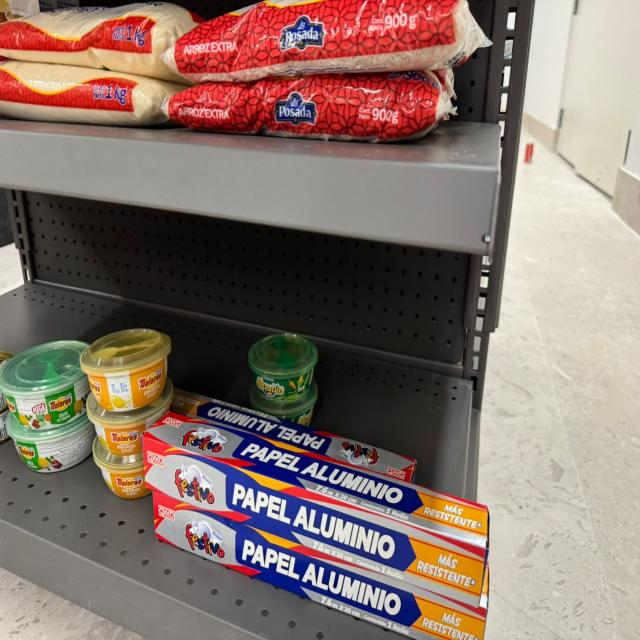Arroz La Posada 900 gr: (168, 70, 455, 142), (435, 69, 456, 99)
Atun Mazatun Agua Sin Soya 130grs: (0, 391, 9, 442), (0, 351, 12, 370)
Azucar Estandar La Posada 1 kg: (0, 3, 200, 79), (0, 60, 186, 125)
DOLORES ENSALADA CON VERDURAS MAXI CUP CAN 240gr: (0, 341, 90, 429), (6, 409, 95, 473)
Dolores SURFY Cup Can Elotitos 24135 gr: (80, 329, 171, 411), (86, 380, 173, 455), (93, 436, 149, 499)
Ensalada Atun Mazatun CupCan: (248, 333, 318, 401), (250, 380, 317, 426)
Frijol Pinto La Posada 900gr: (163, 0, 490, 83)
Papel aluminio festivo rollo 76 m X 30 cm pz: (143, 411, 490, 608), (153, 491, 489, 639), (170, 389, 416, 482)
